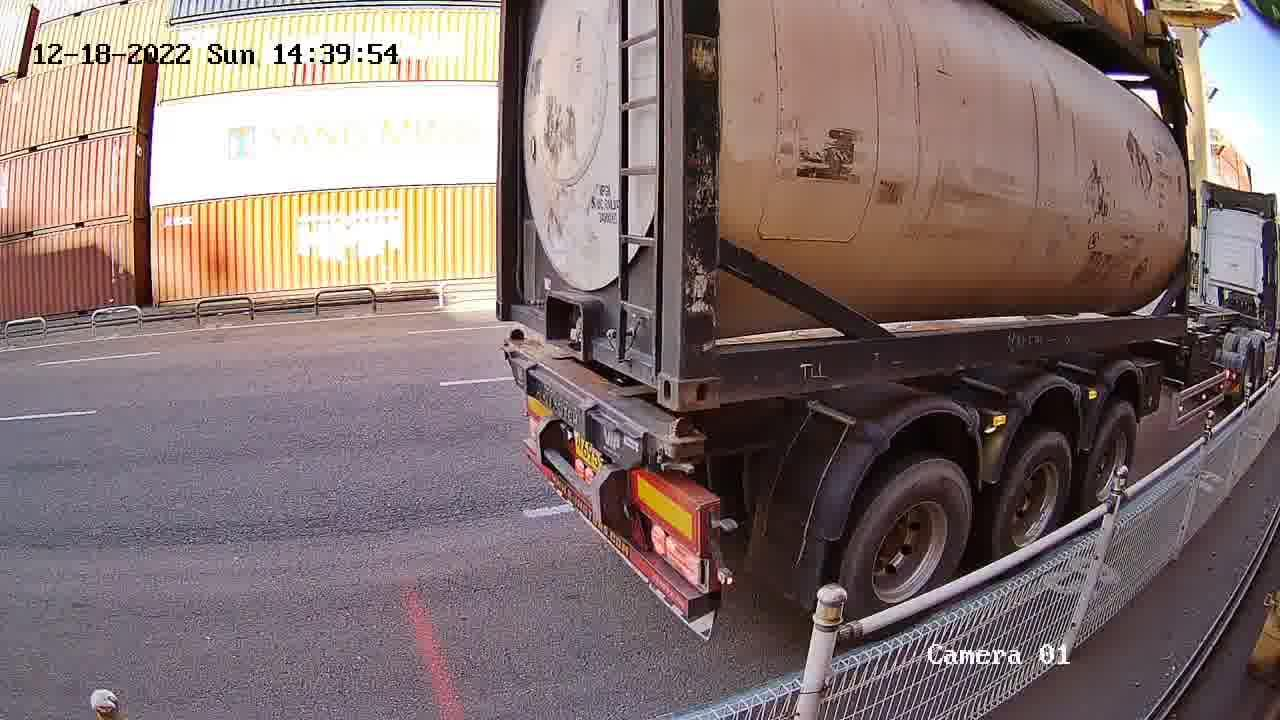Chassis: (502, 338, 701, 473)
Cone: (657, 416, 699, 477), (504, 325, 527, 364)
Hole_L: (680, 337, 748, 408), (495, 270, 536, 329)
Hole_R: (634, 327, 679, 411)
Tire: (840, 463, 974, 617), (996, 433, 1075, 550), (1085, 405, 1138, 502)
